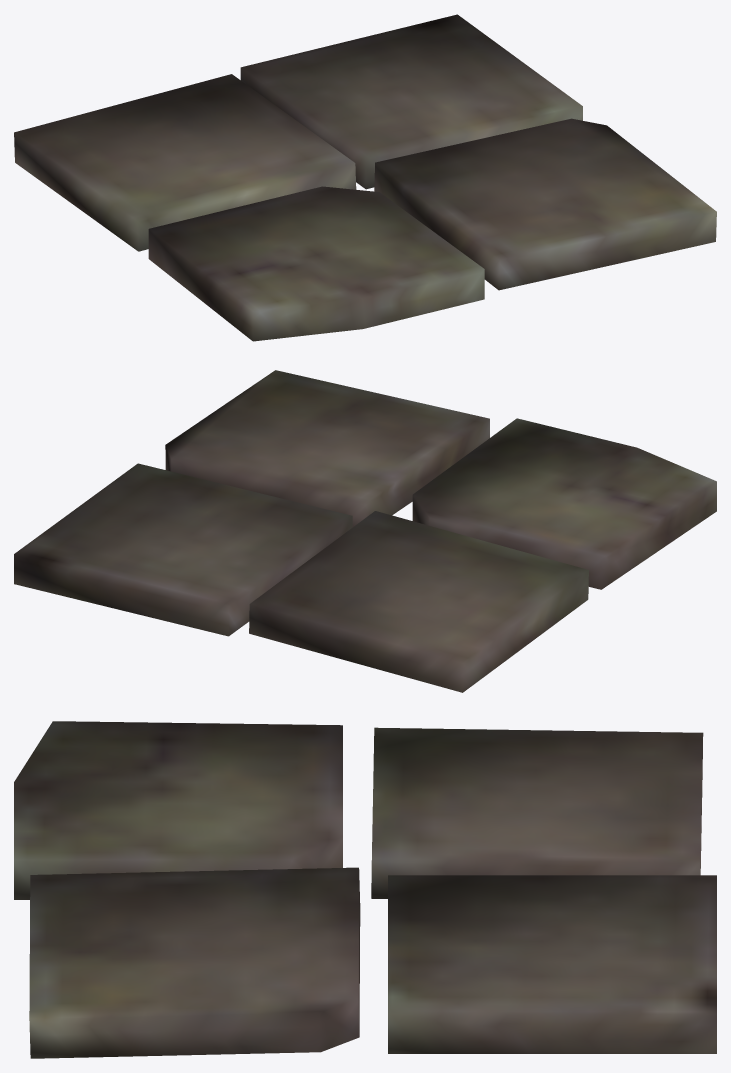
The model's file is Rocks_307.FBX.
3 renders of one model, top to bottom at view 1: azimuth 30°, elevation 25°; view 2: azimuth 150°, elevation 25°; view 3: azimuth 270°, elevation 25°, orthographic. The views are drawn at different scales.
Visible parts, largest first — view 1: Rocks_307; view 2: Rocks_307; view 3: Rocks_307.
Boxes of the visible parts, x1=… form: Rocks_307: x1=14, y1=14, x2=716, y2=341; Rocks_307: x1=14, y1=370, x2=716, y2=692; Rocks_307: x1=14, y1=721, x2=716, y2=1058.
Size of the model in its own units: 94.15 by 7.94 by 95.43.
